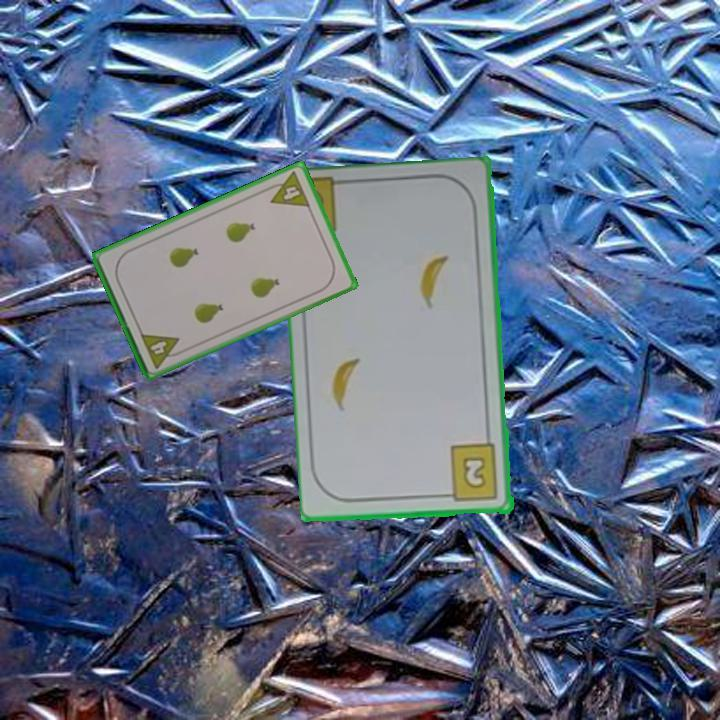2b: (440, 441, 501, 505)
4p: (262, 168, 313, 210), (137, 329, 186, 371)
